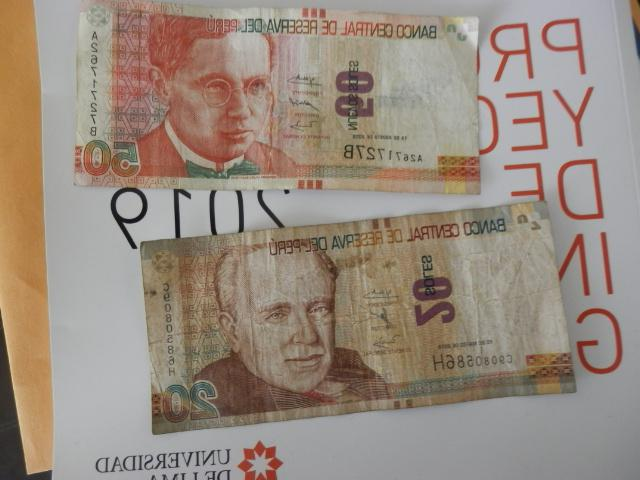B20: (142, 202, 577, 433)
B50: (72, 2, 478, 197)
